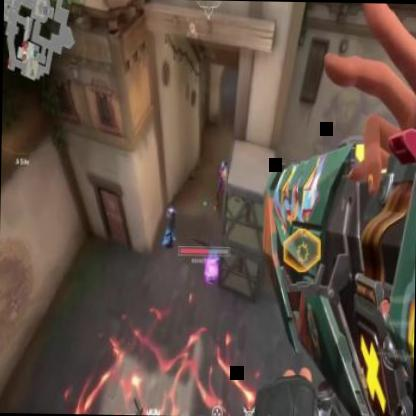enemy: (214, 160, 229, 212)
enemy_head: (220, 160, 224, 172)
